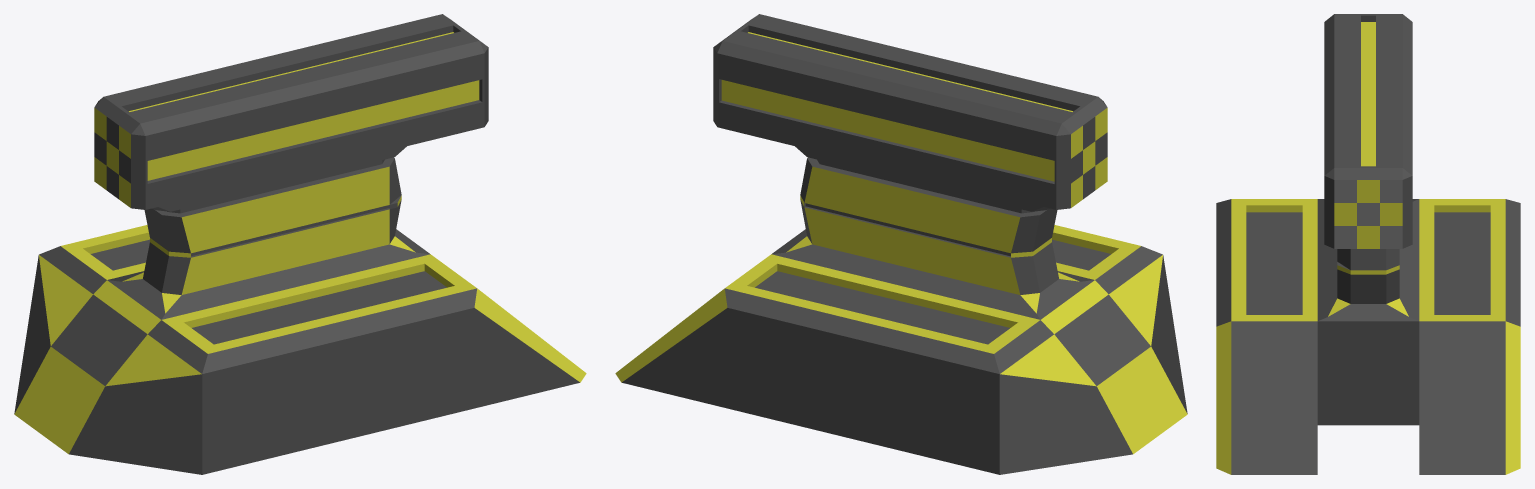
File: turretRocket.fbx
The picture shows the model from 3 angles, left to right: view 1: azimuth 30°, elevation 25°; view 2: azimuth 150°, elevation 25°; view 3: azimuth 270°, elevation 25°; orthographic projection. The views are drawn at different scales.
Parts seen in each view (by area): view 1: Cube, Cube.001; view 2: Cube, Cube.001; view 3: Cube, Cube.001.
Part boxes in pixels (x1,y1,x2,y2): Cube: (14, 146, 586, 474); Cube.001: (94, 14, 488, 209); Cube: (615, 146, 1187, 474); Cube.001: (713, 14, 1107, 209); Cube: (1216, 199, 1520, 474); Cube.001: (1324, 14, 1412, 248).
Size of the model in its own units: 333 by 206 by 200.
